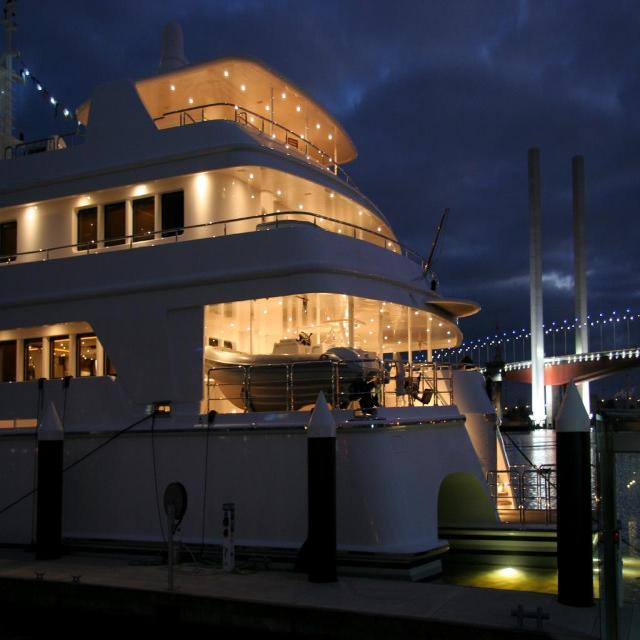Boat: (0, 0, 596, 550)
